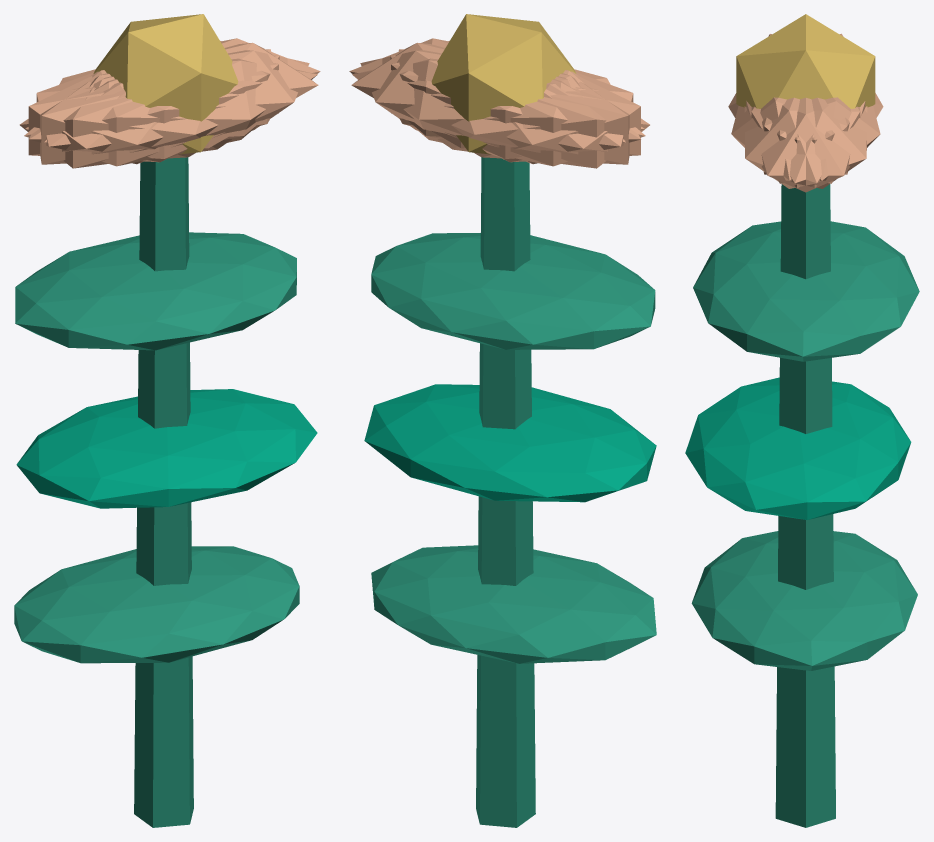
File: ehretia-microphylla.glb
3 views of the same model, side by side, from view 1: azimuth 30°, elevation 25°; view 2: azimuth 150°, elevation 25°; view 3: azimuth 270°, elevation 25° (orthographic).
Parts seen in each view (by area): view 1: leaf1, leaf2, leaf0, stem, center, petal1, petal6, petal2, petal5, petal7, petal0, petal4 (+2 smaller); view 2: leaf2, leaf1, leaf0, stem, center, petal8, petal3, petal7, petal4, petal2, petal0, petal5 (+2 smaller); view 3: leaf2, leaf1, leaf0, stem, center, petal0, petal4, petal5, petal1, petal8.
Boxes of the visible parts, left/top/right/bottom form: leaf1: left=16, top=389, right=317, bottom=508; leaf2: left=15, top=232, right=296, bottom=350; leaf0: left=14, top=546, right=299, bottom=663; stem: left=134, top=157, right=193, bottom=827; center: left=93, top=14, right=238, bottom=154; petal1: left=24, top=58, right=317, bottom=166; petal6: left=19, top=71, right=231, bottom=168; petal2: left=40, top=49, right=271, bottom=164; petal5: left=44, top=50, right=309, bottom=158; petal7: left=28, top=55, right=279, bottom=162; petal0: left=93, top=42, right=318, bottom=148; petal4: left=25, top=38, right=320, bottom=139; leaf2: left=371, top=233, right=655, bottom=349; leaf1: left=364, top=384, right=656, bottom=502; leaf0: left=371, top=545, right=656, bottom=663; stem: left=476, top=157, right=535, bottom=827; center: left=431, top=14, right=576, bottom=154; petal8: left=352, top=58, right=645, bottom=166; petal3: left=438, top=71, right=649, bottom=168; petal7: left=398, top=49, right=629, bottom=164; petal4: left=360, top=50, right=625, bottom=158; petal2: left=390, top=55, right=640, bottom=162; petal0: left=351, top=42, right=576, bottom=148; petal5: left=349, top=38, right=644, bottom=139; leaf2: left=693, top=221, right=919, bottom=361; leaf1: left=685, top=377, right=911, bottom=519; leaf0: left=691, top=531, right=917, bottom=670; stem: left=775, top=184, right=835, bottom=827; center: left=736, top=14, right=875, bottom=108; petal0: left=746, top=97, right=865, bottom=192; petal4: left=751, top=97, right=867, bottom=188; petal5: left=744, top=97, right=860, bottom=188; petal1: left=731, top=97, right=849, bottom=180; petal8: left=762, top=97, right=880, bottom=180.
Bounding box in the file's own units: 0.1498 × 0.3805 × 0.1034.
